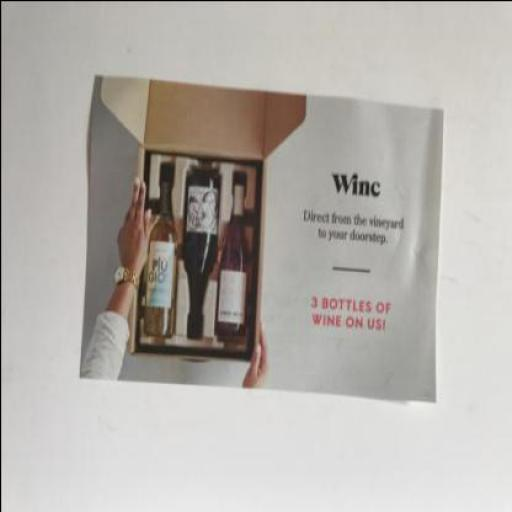paper: (79, 77, 444, 405)
